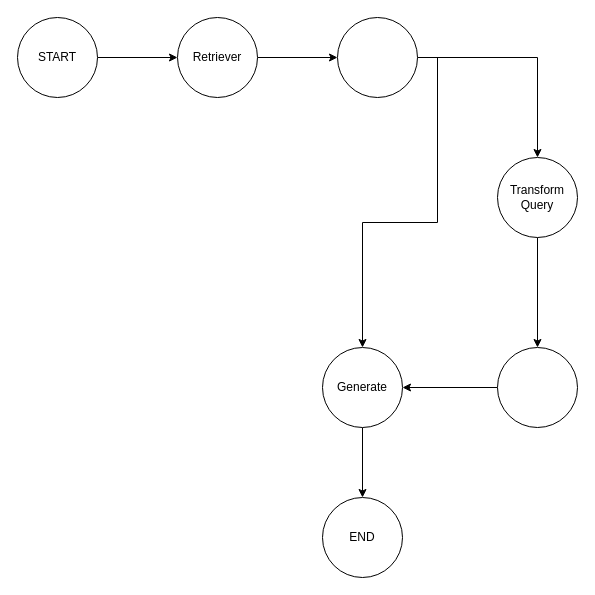
The diagram is 595 pixels wide and 595 high, and some of its shapes have lost their labels. Each missing label, with the box of its shape:
Grade Documents: (336, 16, 418, 98)
Web Search: (496, 346, 578, 428)
